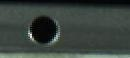holes: (26, 13, 60, 48)
